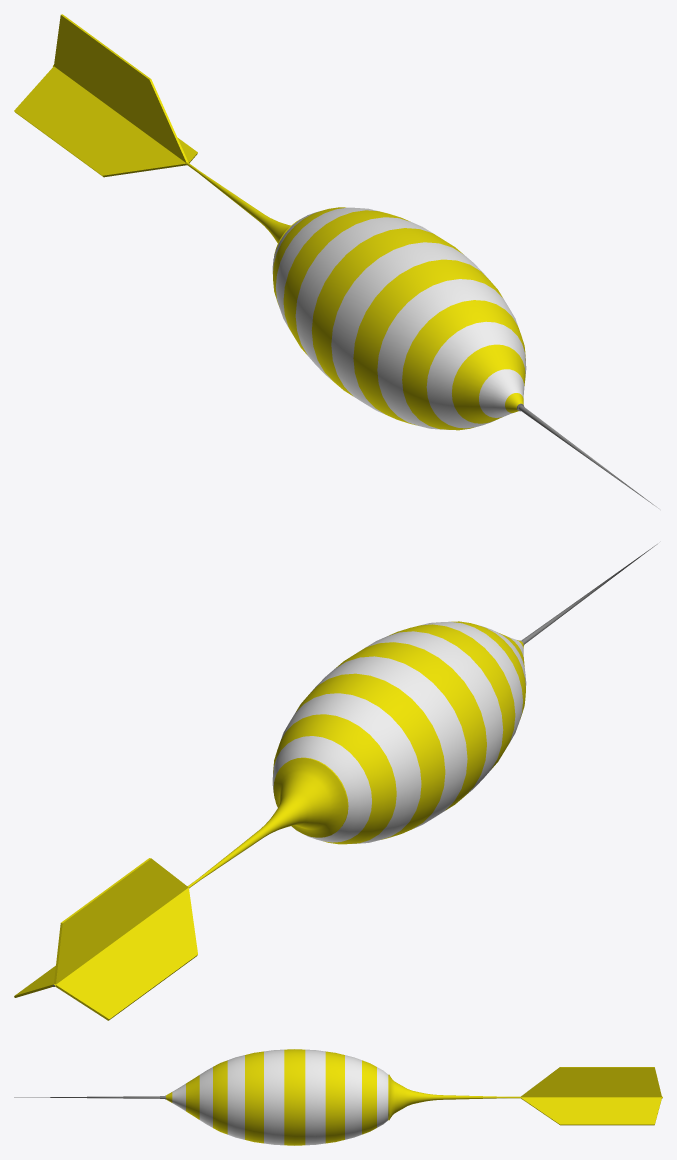
Rendered from dart.fbx.
The picture shows the model from 3 angles, top to bottom: view 1: azimuth 30°, elevation 25°; view 2: azimuth 150°, elevation 25°; view 3: azimuth 270°, elevation 25°; orthographic projection. The views are drawn at different scales.
Visible parts, largest first — view 1: Sphere; view 2: Sphere; view 3: Sphere.
Part boxes in pixels (x1,y1,x2,y2): Sphere: (14,14,658,508); Sphere: (14,544,657,1020); Sphere: (14,1049,662,1145).
Bounding box in the file's own units: 200 × 200 × 1341.
